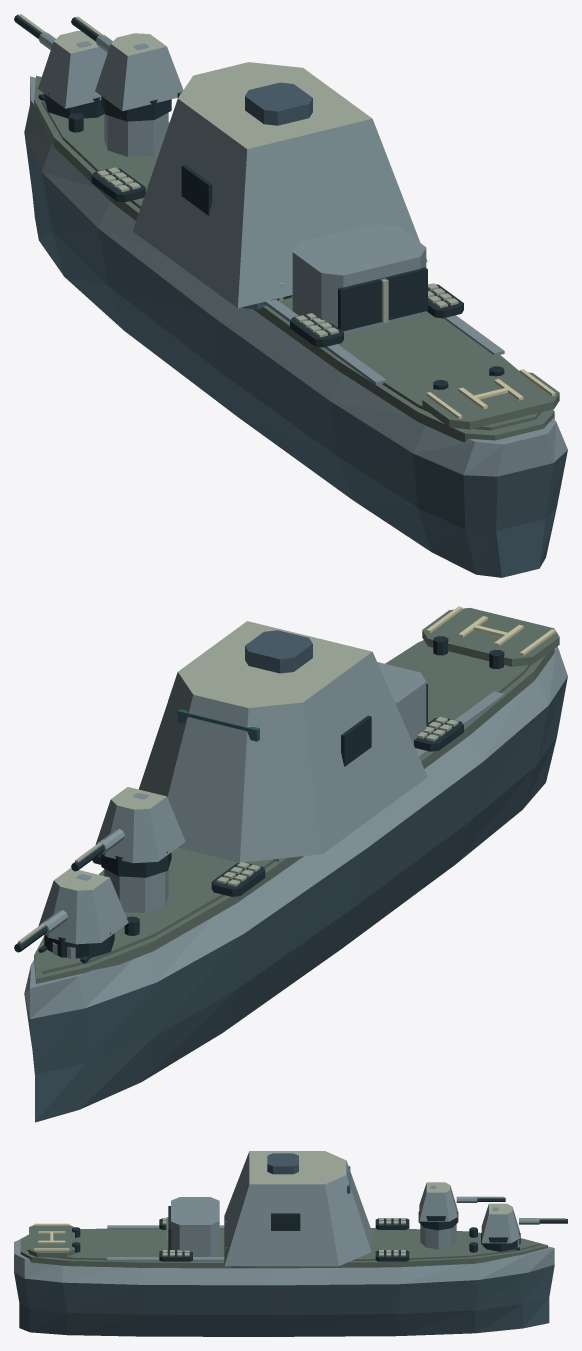
Rendered from historic-zumwalt.glb.
The picture shows the model from 3 angles, top to bottom: view 1: azimuth 30°, elevation 25°; view 2: azimuth 150°, elevation 25°; view 3: azimuth 270°, elevation 25°; orthographic projection. The views are drawn at different scales.
Visible parts, largest first — view 1: historic-zumwalt-historic-zumwalt-geometry, historic-zumwalt-part_bridge.144-geometry, historic-zumwalt-turret_main_1.103-geometry, historic-zumwalt-turret_main_0.113-geometry, historic-zumwalt-naval_launcher_0.019-geometry, historic-zumwalt-naval_launcher_2.005-geometry, historic-zumwalt-naval_launcher_3.002-geometry; view 2: historic-zumwalt-historic-zumwalt-geometry, historic-zumwalt-part_bridge.144-geometry, historic-zumwalt-turret_main_1.103-geometry, historic-zumwalt-turret_main_0.113-geometry, historic-zumwalt-naval_launcher_0.019-geometry, historic-zumwalt-naval_launcher_2.005-geometry; view 3: historic-zumwalt-historic-zumwalt-geometry, historic-zumwalt-part_bridge.144-geometry, historic-zumwalt-turret_main_1.103-geometry, historic-zumwalt-turret_main_0.113-geometry, historic-zumwalt-naval_launcher_1.014-geometry, historic-zumwalt-naval_launcher_0.019-geometry, historic-zumwalt-naval_launcher_3.002-geometry.
Part boxes in pixels (left/top/right/bottom): historic-zumwalt-historic-zumwalt-geometry: left=24, top=75, right=567, bottom=577; historic-zumwalt-part_bridge.144-geometry: left=132, top=62, right=427, bottom=308; historic-zumwalt-turret_main_1.103-geometry: left=71, top=16, right=183, bottom=121; historic-zumwalt-turret_main_0.113-geometry: left=14, top=14, right=107, bottom=118; historic-zumwalt-naval_launcher_0.019-geometry: left=91, top=167, right=145, bottom=202; historic-zumwalt-naval_launcher_2.005-geometry: left=290, top=313, right=343, bottom=347; historic-zumwalt-naval_launcher_3.002-geometry: left=426, top=283, right=463, bottom=318; historic-zumwalt-historic-zumwalt-geometry: left=24, top=606, right=567, bottom=1122; historic-zumwalt-part_bridge.144-geometry: left=138, top=621, right=427, bottom=862; historic-zumwalt-turret_main_1.103-geometry: left=71, top=787, right=185, bottom=877; historic-zumwalt-turret_main_0.113-geometry: left=14, top=868, right=128, bottom=958; historic-zumwalt-naval_launcher_0.019-geometry: left=211, top=862, right=265, bottom=896; historic-zumwalt-naval_launcher_2.005-geometry: left=414, top=716, right=463, bottom=751; historic-zumwalt-historic-zumwalt-geometry: left=14, top=1197, right=554, bottom=1336; historic-zumwalt-part_bridge.144-geometry: left=224, top=1151, right=371, bottom=1266; historic-zumwalt-turret_main_1.103-geometry: left=418, top=1182, right=505, bottom=1230; historic-zumwalt-turret_main_0.113-geometry: left=481, top=1203, right=567, bottom=1251; historic-zumwalt-naval_launcher_1.014-geometry: left=375, top=1250, right=409, bottom=1261; historic-zumwalt-naval_launcher_0.019-geometry: left=375, top=1218, right=409, bottom=1229; historic-zumwalt-naval_launcher_3.002-geometry: left=159, top=1250, right=192, bottom=1261.
Bounding box in the file's own units: 0.9096 × 1.37 × 4.21.
